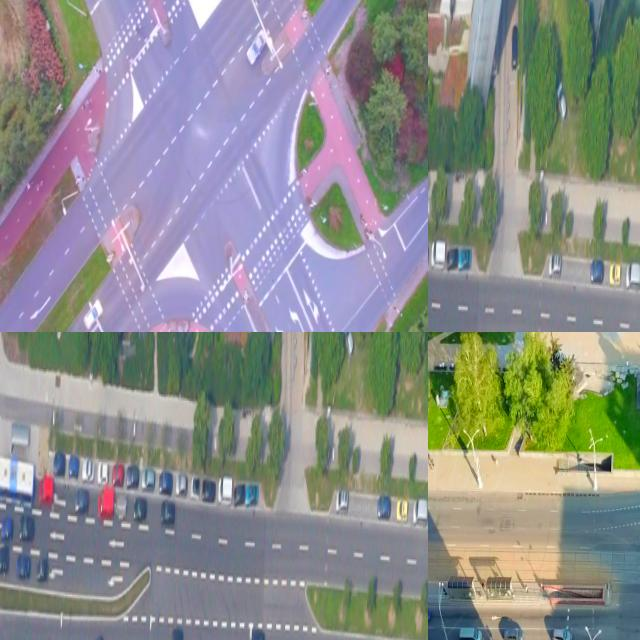UAI: (246, 28, 267, 69), (82, 296, 102, 330), (555, 77, 568, 128), (97, 486, 113, 519), (18, 513, 35, 544), (625, 260, 640, 290), (38, 475, 53, 505), (412, 496, 427, 526), (341, 332, 354, 364), (431, 239, 445, 268), (75, 486, 89, 515), (218, 475, 232, 504), (16, 554, 30, 581), (160, 499, 174, 526), (510, 24, 518, 70), (501, 625, 524, 640), (81, 456, 94, 482), (590, 258, 604, 282), (133, 496, 147, 520), (377, 494, 391, 518), (202, 478, 215, 502), (159, 469, 172, 493), (125, 464, 138, 488), (458, 247, 471, 270), (245, 483, 258, 506), (141, 467, 154, 490), (1, 517, 13, 541), (36, 557, 48, 581), (175, 473, 187, 497), (112, 461, 124, 485), (68, 453, 79, 479), (549, 253, 561, 276), (336, 489, 348, 512), (53, 452, 65, 475), (551, 627, 572, 640), (115, 494, 126, 518), (97, 461, 108, 485), (609, 261, 620, 284), (446, 246, 457, 269), (396, 497, 407, 520), (233, 482, 244, 505), (0, 544, 8, 575), (190, 475, 199, 498), (249, 629, 264, 640), (171, 628, 183, 640)
car: (0, 455, 34, 505)
harvester: (458, 625, 482, 640)
